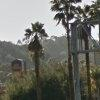Palm tree: (18, 15, 47, 84)
